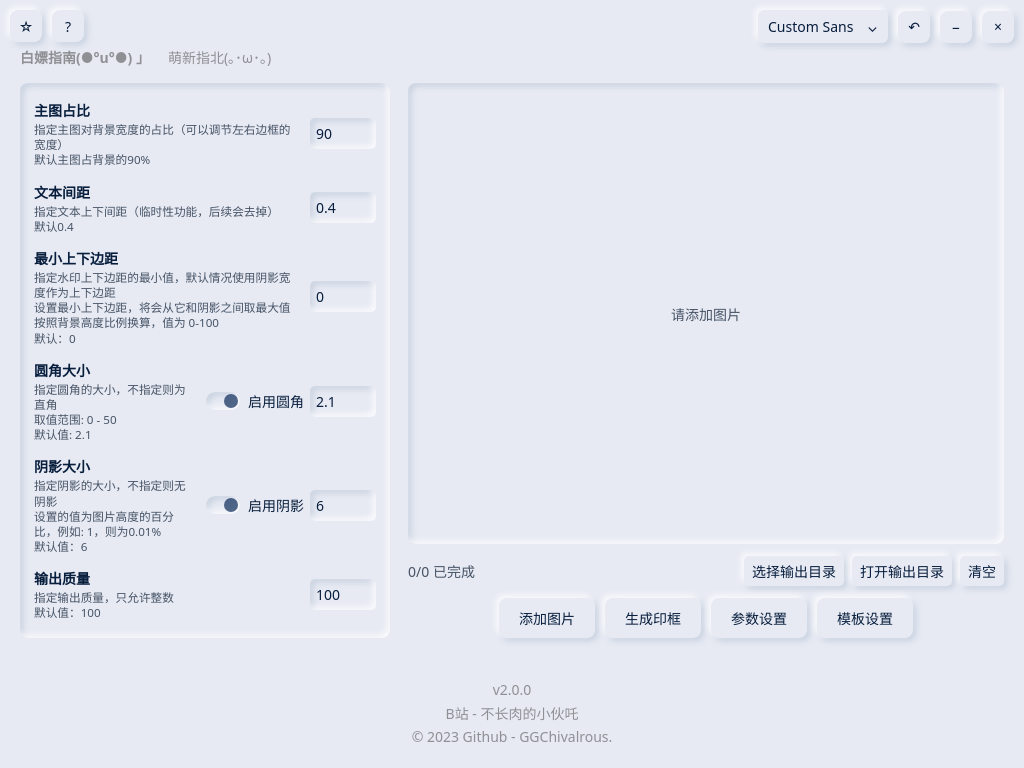
settings parity › keeps bundled fonts, registers custom fonts, and falls back after deleting the selected font
Click the dropdown named "字体": (823, 26) [758, 10, 888, 43]
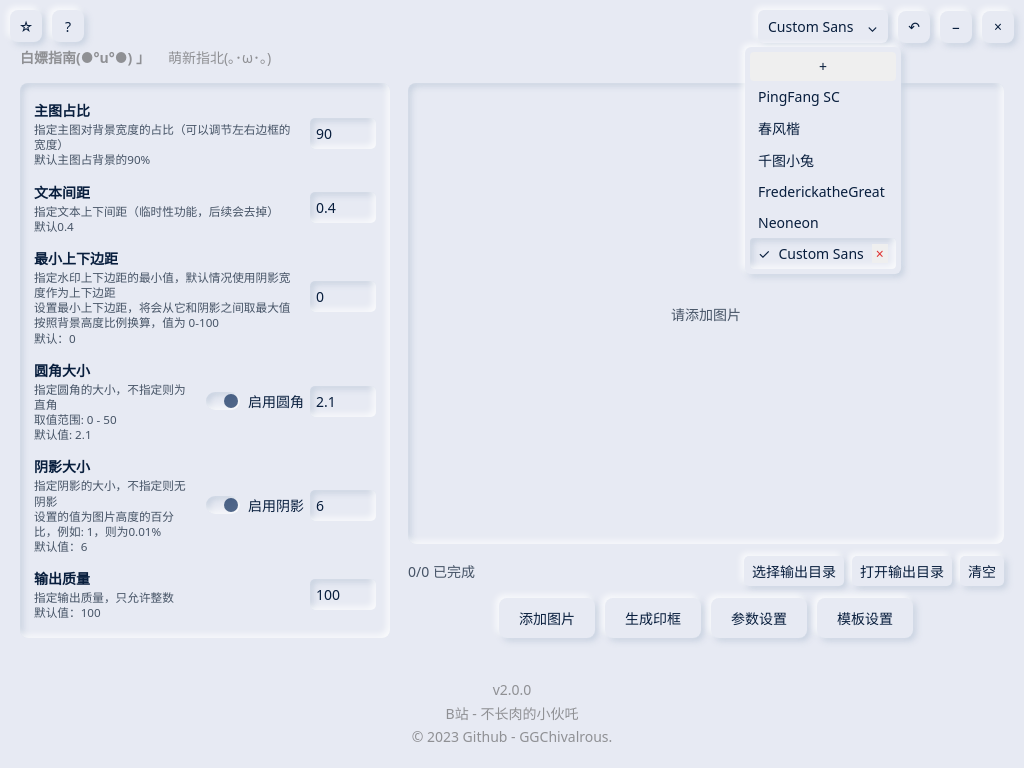
Result: the option "春风楷" is shown at [758, 119, 800, 138]
Result: the option "千图小兔" is shown at [758, 151, 814, 170]
Result: the option named "删除字体 Custom Sans" is shown at [750, 238, 896, 269]
Click the button named "添加字体": (823, 66) [750, 52, 896, 81]
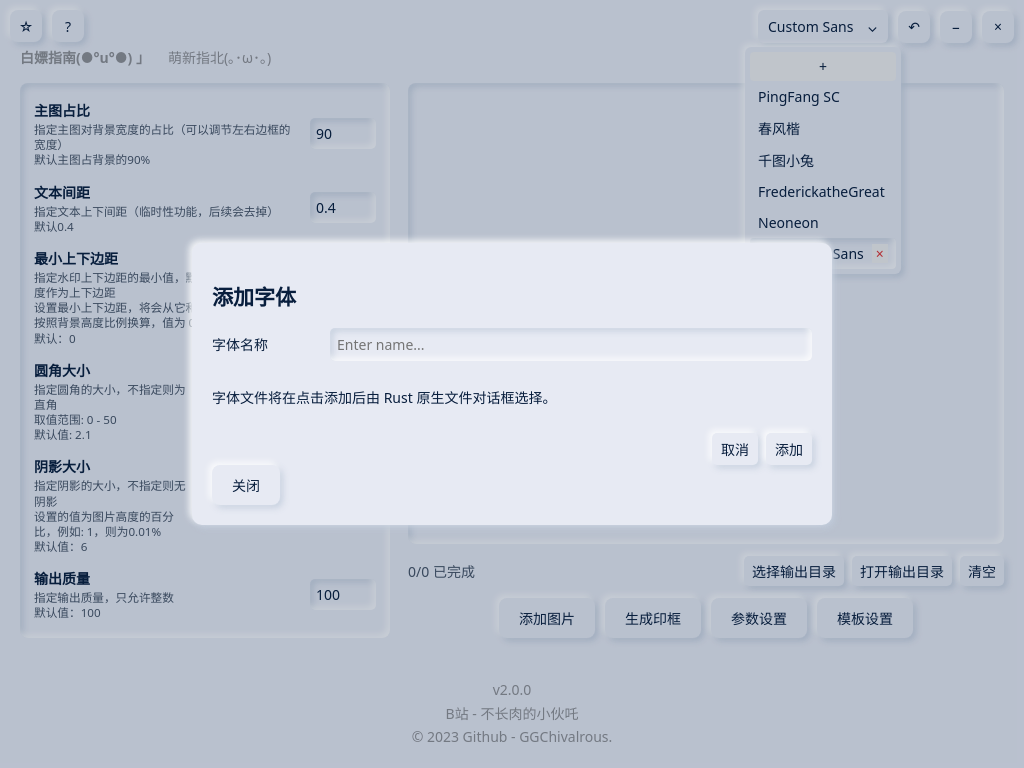
In the field labelled "字体名称": (571, 344) [330, 328, 812, 361], type "Fixture Sans"
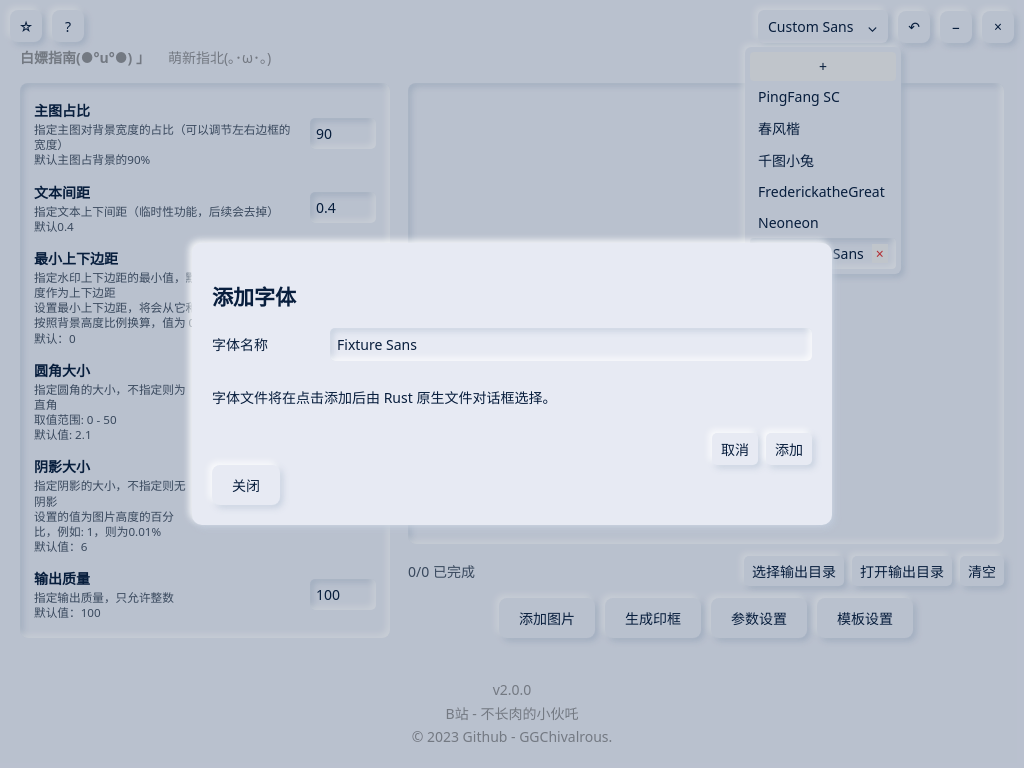
Click the button "添加": (789, 449) [766, 433, 812, 465]
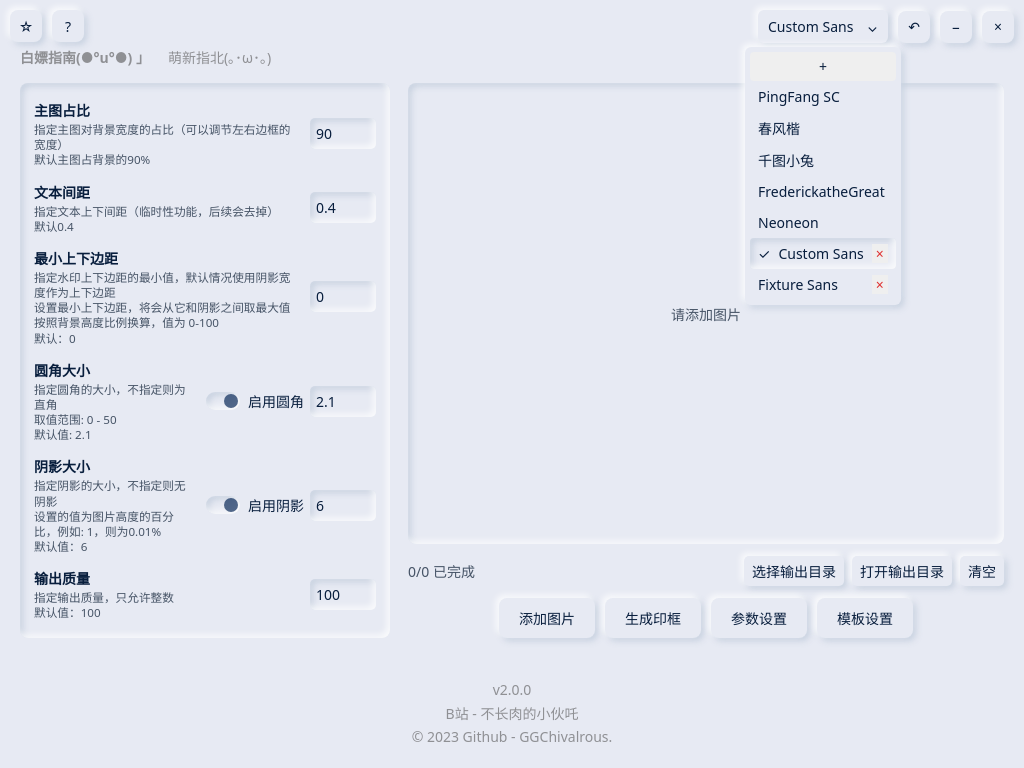
Result: the label labelled "字体名称" is gone
Click the button named "删除字体 Custom Sans": (880, 254) [872, 244, 888, 263]
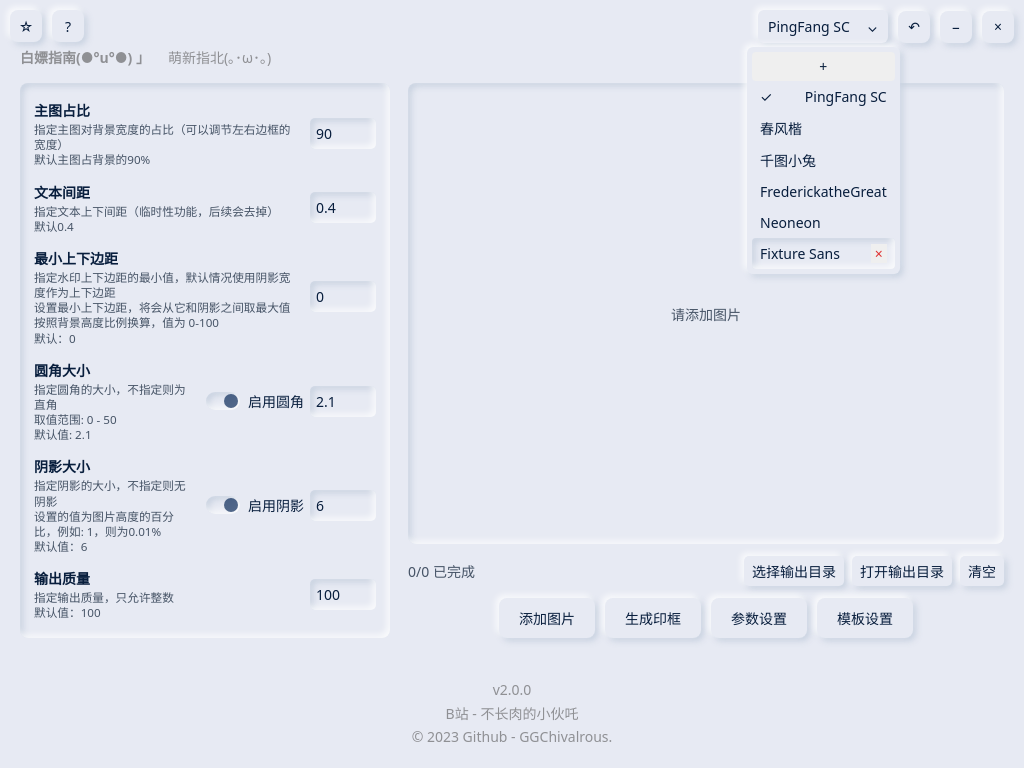
Result: the 1st text "PingFang SC" is shown at [768, 17, 850, 36]
